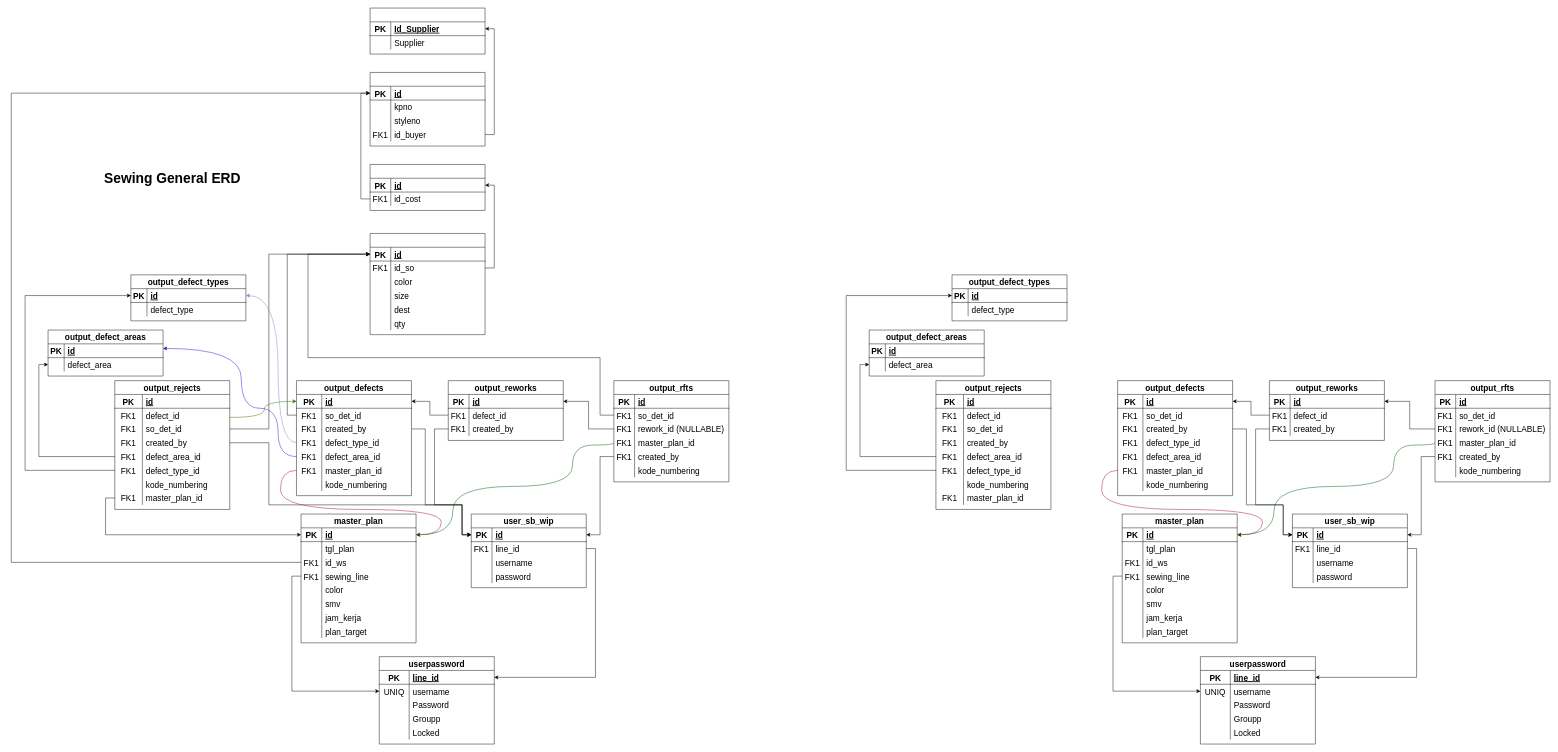
This 1558x752 diagram has some shape labels left out. Each missing label, with the box of its shape:
act_costing: (370, 72, 485, 146)
mastersupplier: (370, 8, 485, 54)
so: (370, 164, 485, 210)
so_det: (370, 233, 485, 335)
